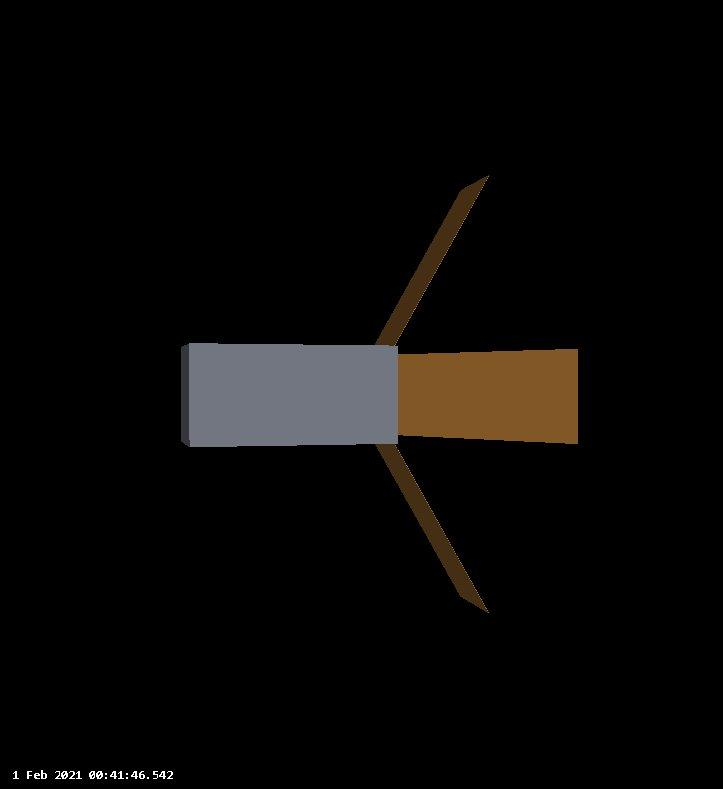body: (178, 341, 401, 449)
solar: (373, 442, 496, 620), (372, 173, 492, 348), (390, 346, 581, 446)
